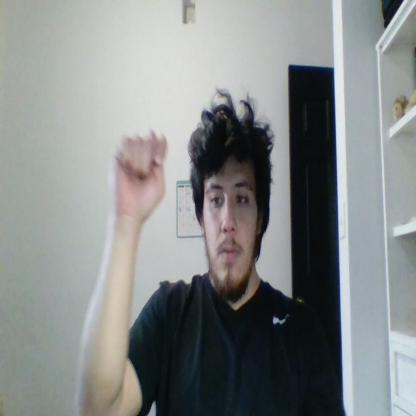T: (110, 128, 166, 218)
